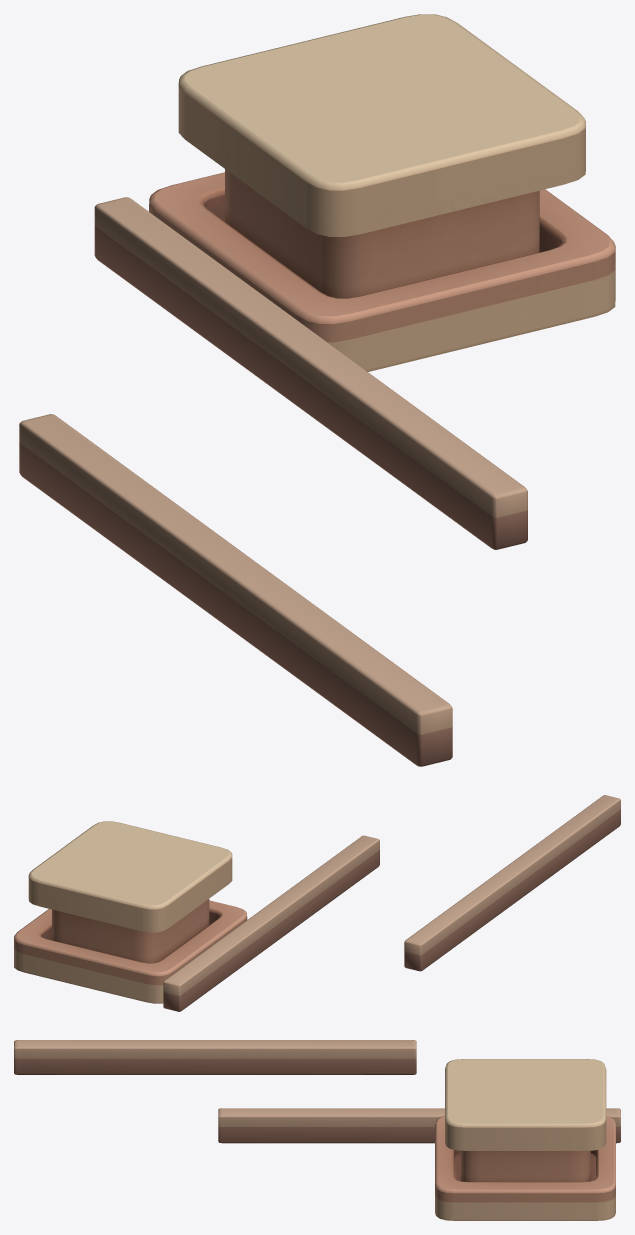
Rendered from Props.fbx.
The picture shows the model from 3 angles, top to bottom: view 1: azimuth 30°, elevation 25°; view 2: azimuth 150°, elevation 25°; view 3: azimuth 270°, elevation 25°; orthographic projection. The views are drawn at different scales.
Parts seen in each view (by area): view 1: Box, Box20-3_1 (1), Box20-3_1; view 2: Box, Box20-3_1 (1), Box20-3_1; view 3: Box, Box20-3_1 (1), Box20-3_1.
Boxes of the visible parts, left/top/right/bottom form: Box: left=149, top=14, right=615, bottom=371; Box20-3_1 (1): left=19, top=414, right=452, bottom=766; Box20-3_1: left=94, top=197, right=527, bottom=549; Box: left=14, top=821, right=247, bottom=1003; Box20-3_1 (1): left=404, top=795, right=620, bottom=971; Box20-3_1: left=163, top=835, right=379, bottom=1011; Box: left=435, top=1059, right=615, bottom=1220; Box20-3_1 (1): left=14, top=1040, right=416, bottom=1074; Box20-3_1: left=218, top=1108, right=620, bottom=1143.
Bounding box in the file's own units: 18.1 × 5 × 30.14.
